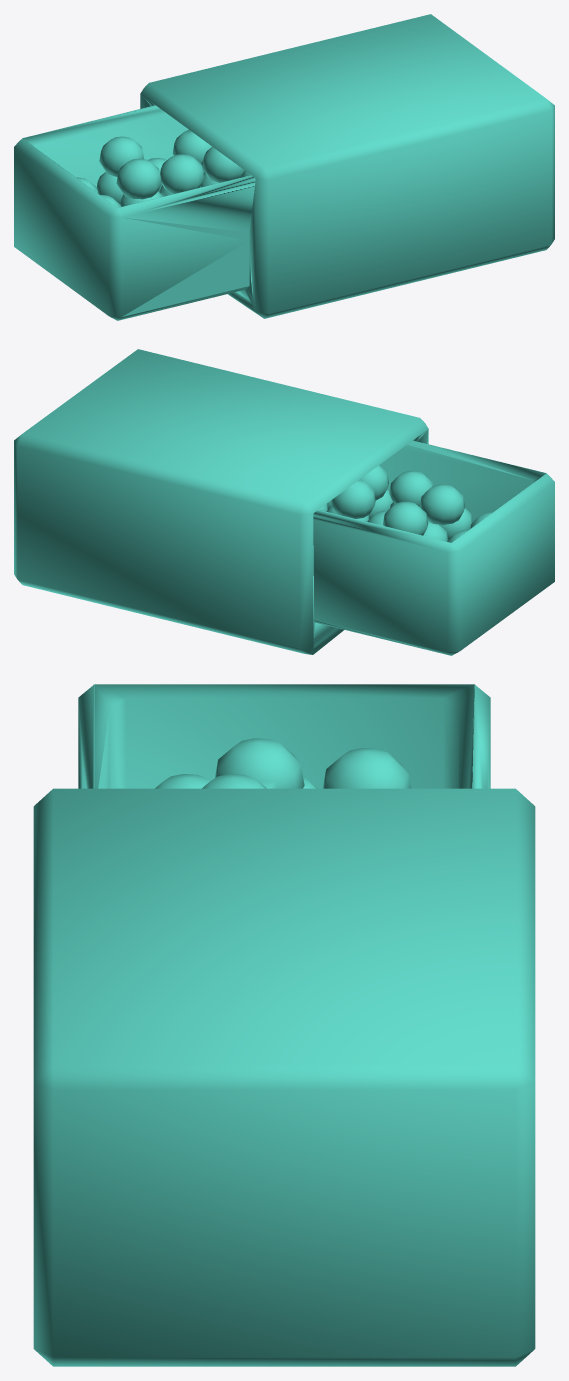
File: Ammo.fbx
3 renders of one model, top to bottom at view 1: azimuth 30°, elevation 25°; view 2: azimuth 150°, elevation 25°; view 3: azimuth 270°, elevation 25°, orthographic. The views are drawn at different scales.
Parts seen in each view (by area): view 1: Ammocontainer; view 2: Ammocontainer; view 3: Ammocontainer.
Boxes of the visible parts, left/top/right/bottom form: Ammocontainer: left=14, top=14, right=554, bottom=320; Ammocontainer: left=14, top=349, right=554, bottom=655; Ammocontainer: left=33, top=684, right=535, bottom=1366.
Bounding box in the file's own units: 5817 × 1932 × 2899.
